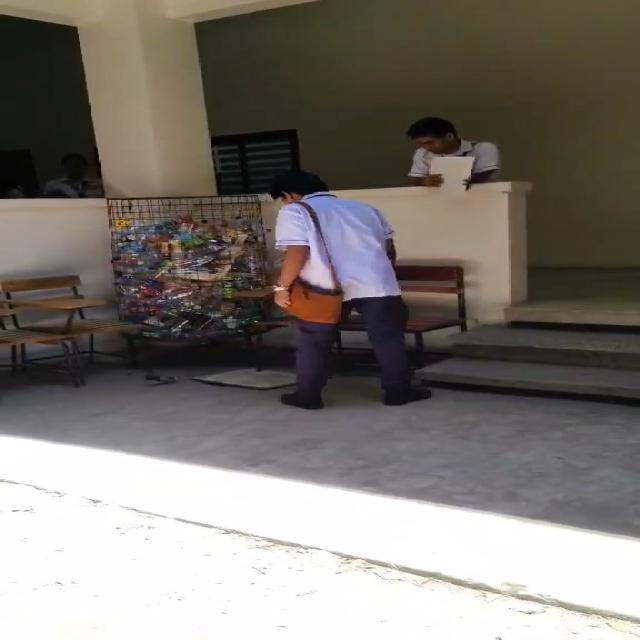Bottle: (143, 373, 177, 384)
